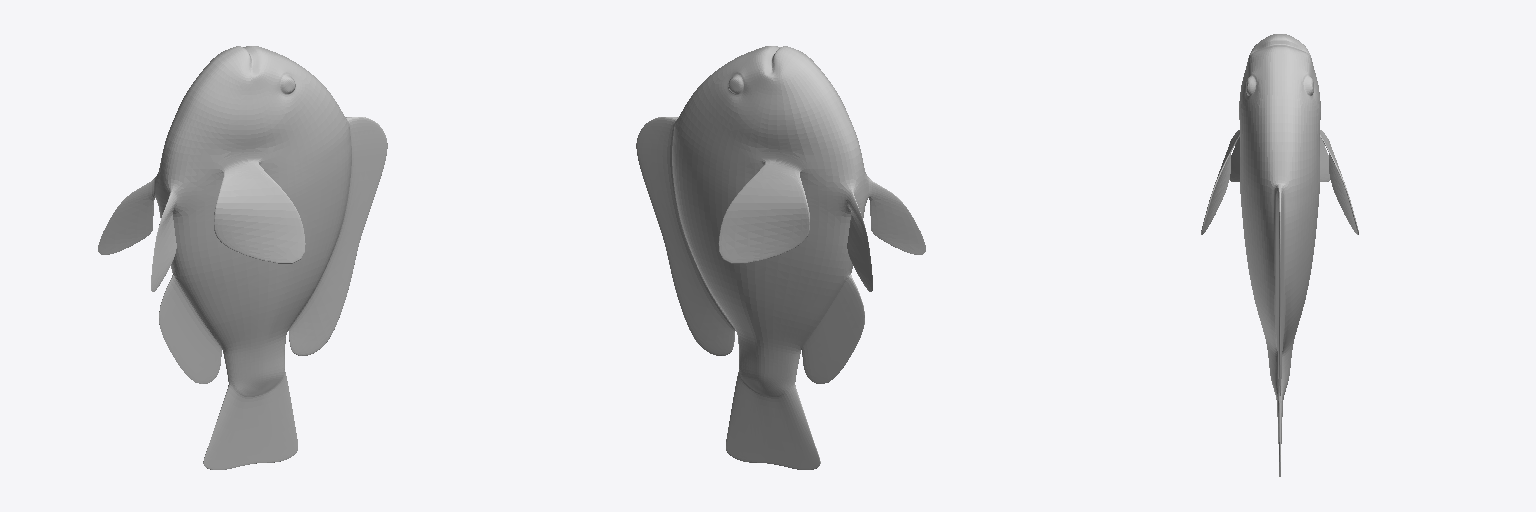
The model's file is fisi3.obj.
3 renders of one model, left to right at view 1: azimuth 30°, elevation 25°; view 2: azimuth 150°, elevation 25°; view 3: azimuth 270°, elevation 25°, orthographic.
Parts seen in each view (by area): view 1: 12265_Fish_v1_L2; view 2: 12265_Fish_v1_L2; view 3: 12265_Fish_v1_L2.
Boxes of the visible parts, <box> form: 12265_Fish_v1_L2: <box>98,46,387,469</box>; 12265_Fish_v1_L2: <box>636,46,925,469</box>; 12265_Fish_v1_L2: <box>1201,34,1358,476</box>.
Size of the model in its own units: 2.24 by 3.44 by 1.16.